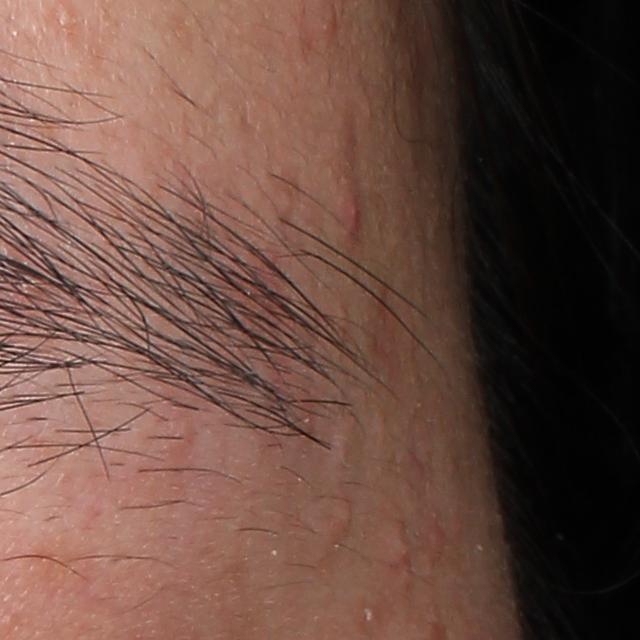comedo: (57, 8, 76, 35)
papule: (336, 195, 365, 242), (329, 500, 354, 532)
